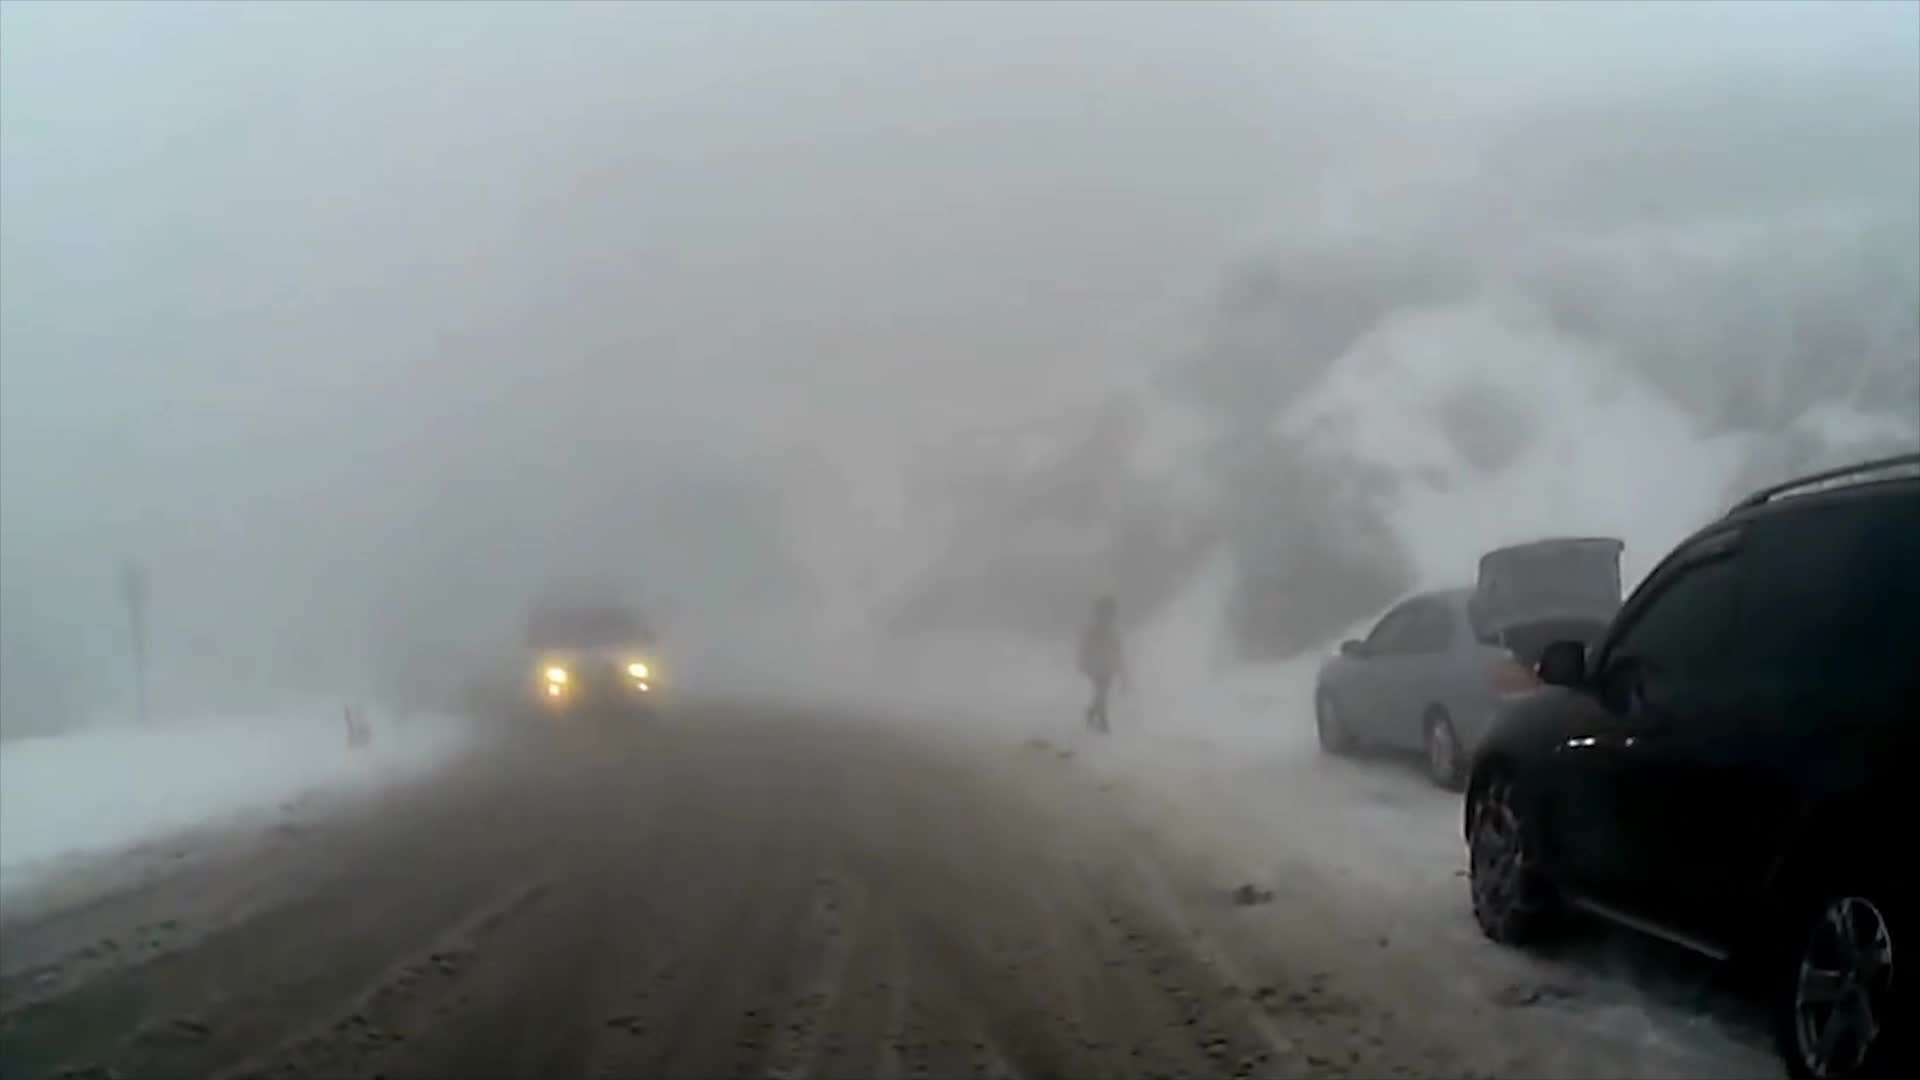pedestrian: (1083, 599, 1131, 730)
vehicle: (1461, 444, 1920, 1080), (1313, 530, 1695, 789), (520, 584, 663, 732)
